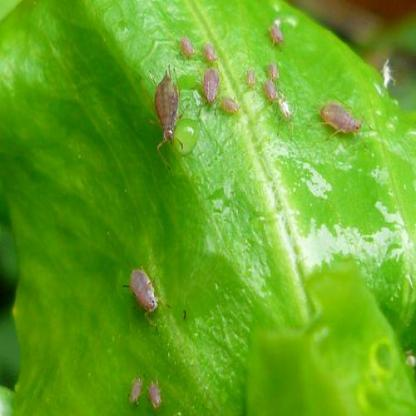aphid: (119, 254, 172, 332), (150, 58, 191, 158), (312, 95, 372, 139), (197, 57, 223, 112), (140, 370, 170, 416), (271, 96, 301, 133), (123, 366, 143, 414), (257, 76, 284, 111), (217, 88, 241, 123), (200, 39, 223, 71), (266, 19, 287, 50), (176, 33, 195, 60), (265, 60, 287, 83), (242, 63, 259, 92)
